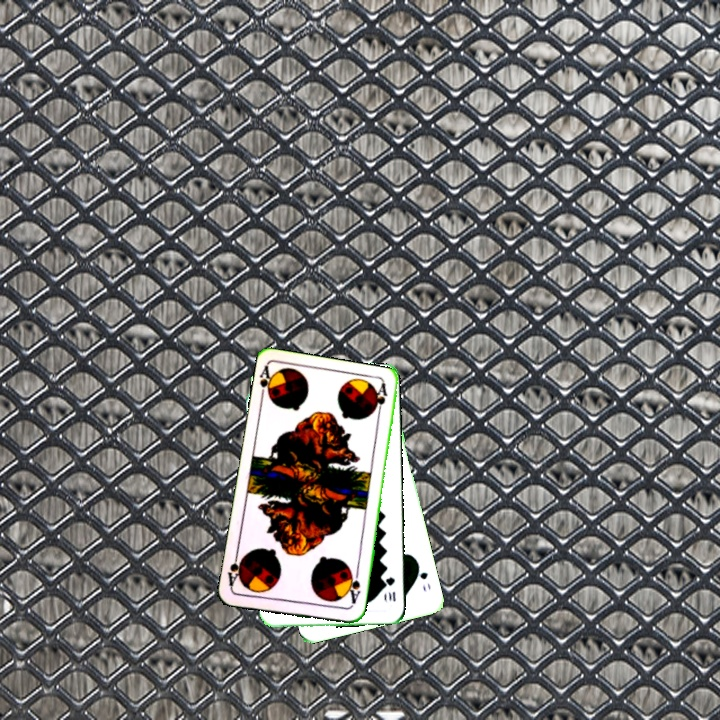G10: (382, 573, 398, 604)
GO: (413, 559, 433, 594)
SA: (256, 362, 278, 403), (343, 568, 363, 609)
